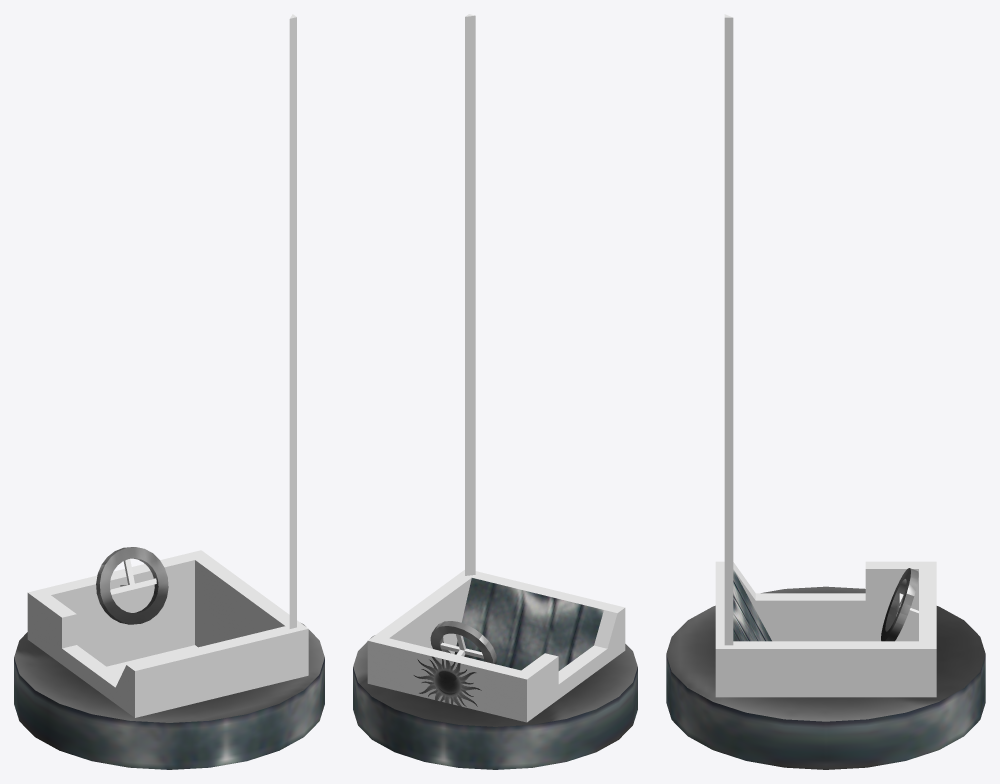
The model's file is bumperCar.dae.
3 views of the same model, side by side, from view 1: azimuth 30°, elevation 25°; view 2: azimuth 150°, elevation 25°; view 3: azimuth 270°, elevation 25° (orthographic). The views are drawn at different scales.
Visible parts, largest first — view 1: SketchUp (×4); view 2: SketchUp (×6); view 3: SketchUp (×5).
Part boxes in pixels (left/top/right/bottom): SketchUp (×4): left=14, top=14, right=324, bottom=769; SketchUp (×6): left=353, top=14, right=637, bottom=769; SketchUp (×5): left=666, top=14, right=985, bottom=769.
Size of the model in its own units: 36 by 36 by 90.
Materials: 2 (1 with a texture image).
